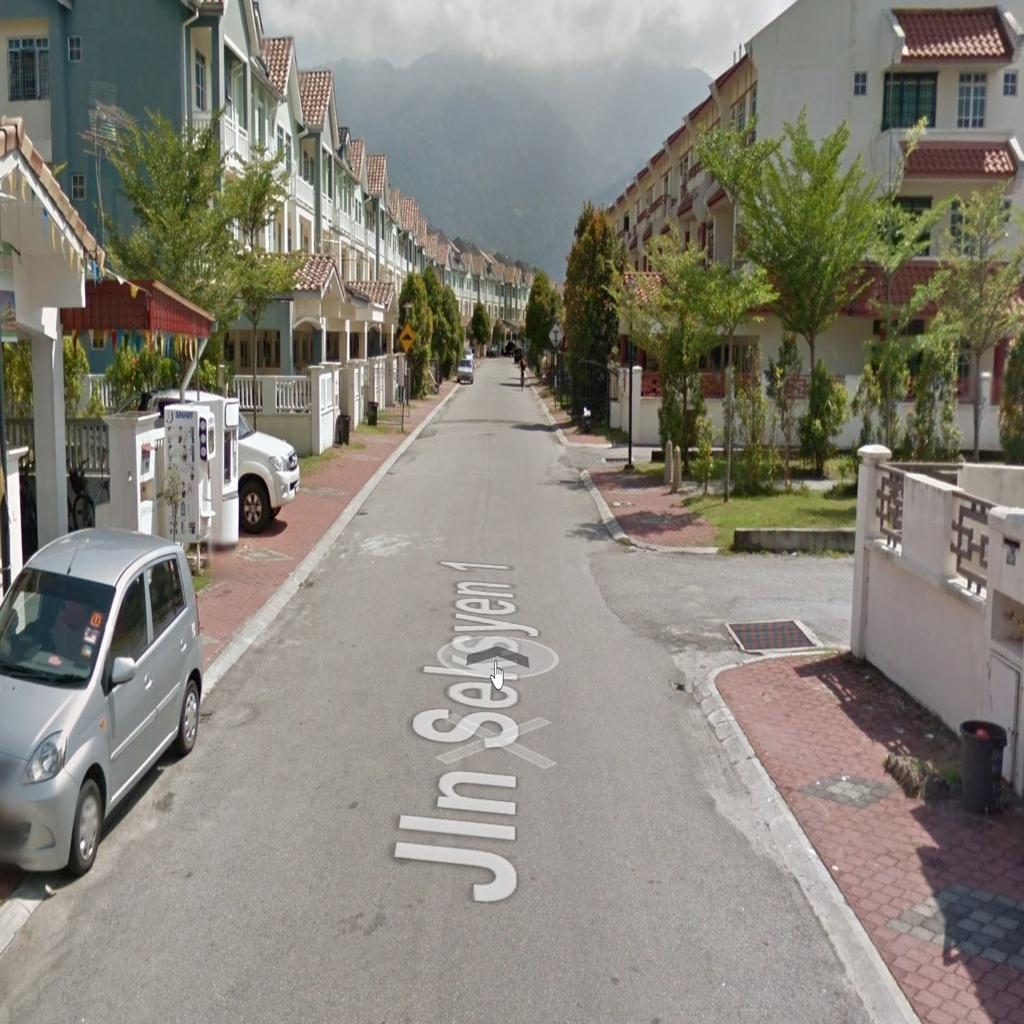Junction: (585, 512, 852, 700)
